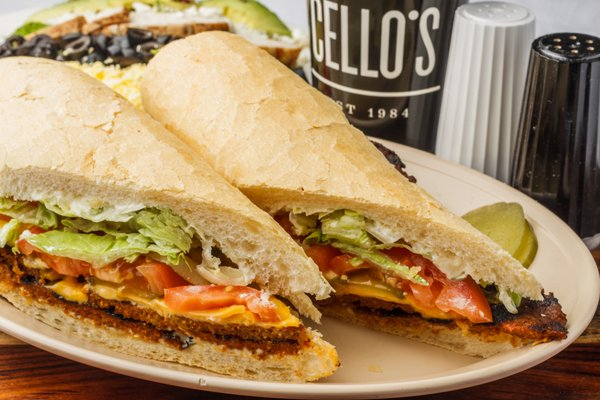pizza: (511, 31, 600, 246)
soup: (134, 30, 569, 353), (0, 54, 343, 384), (2, 0, 307, 72)
